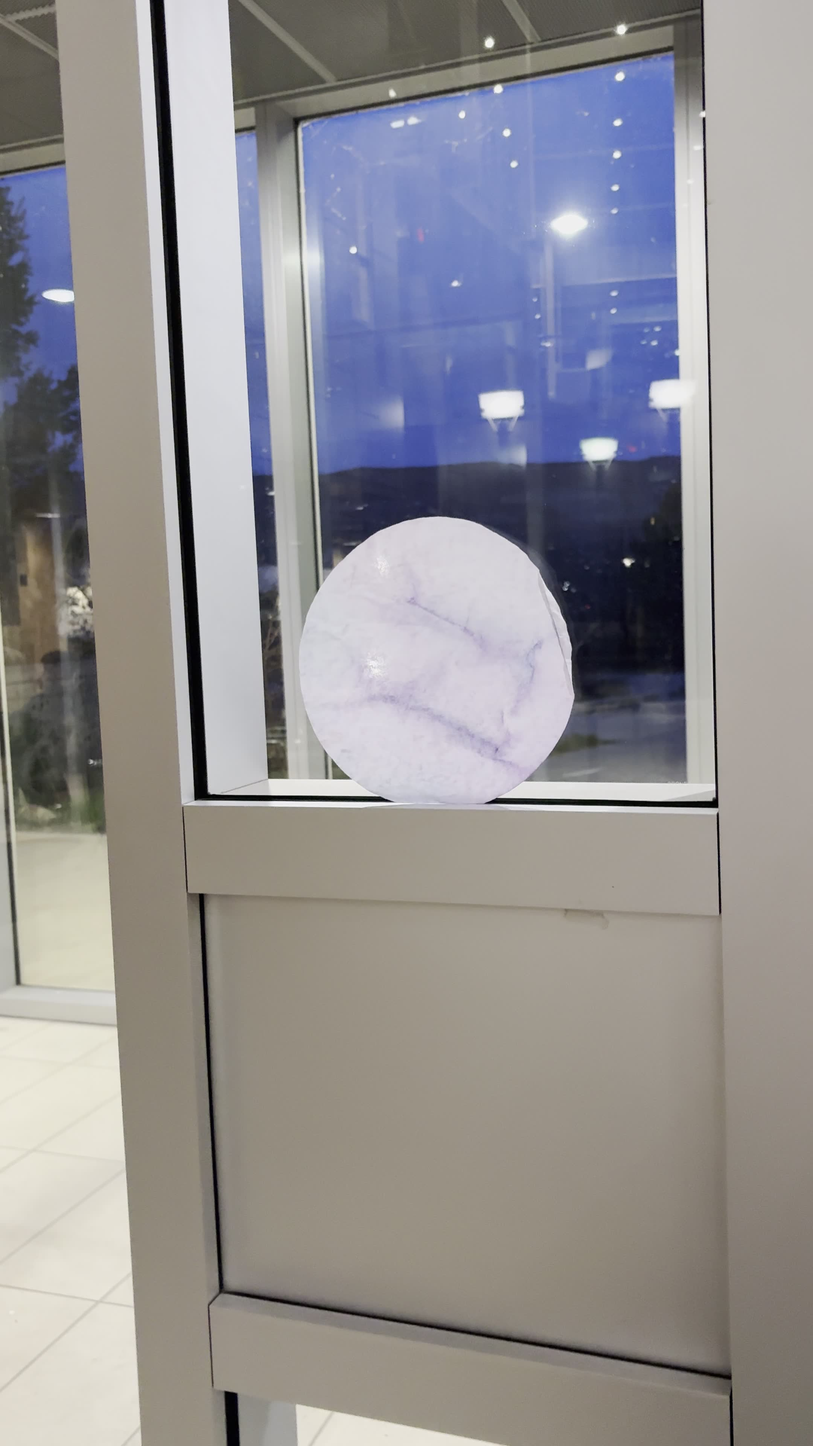Target: (296, 517, 575, 805)
